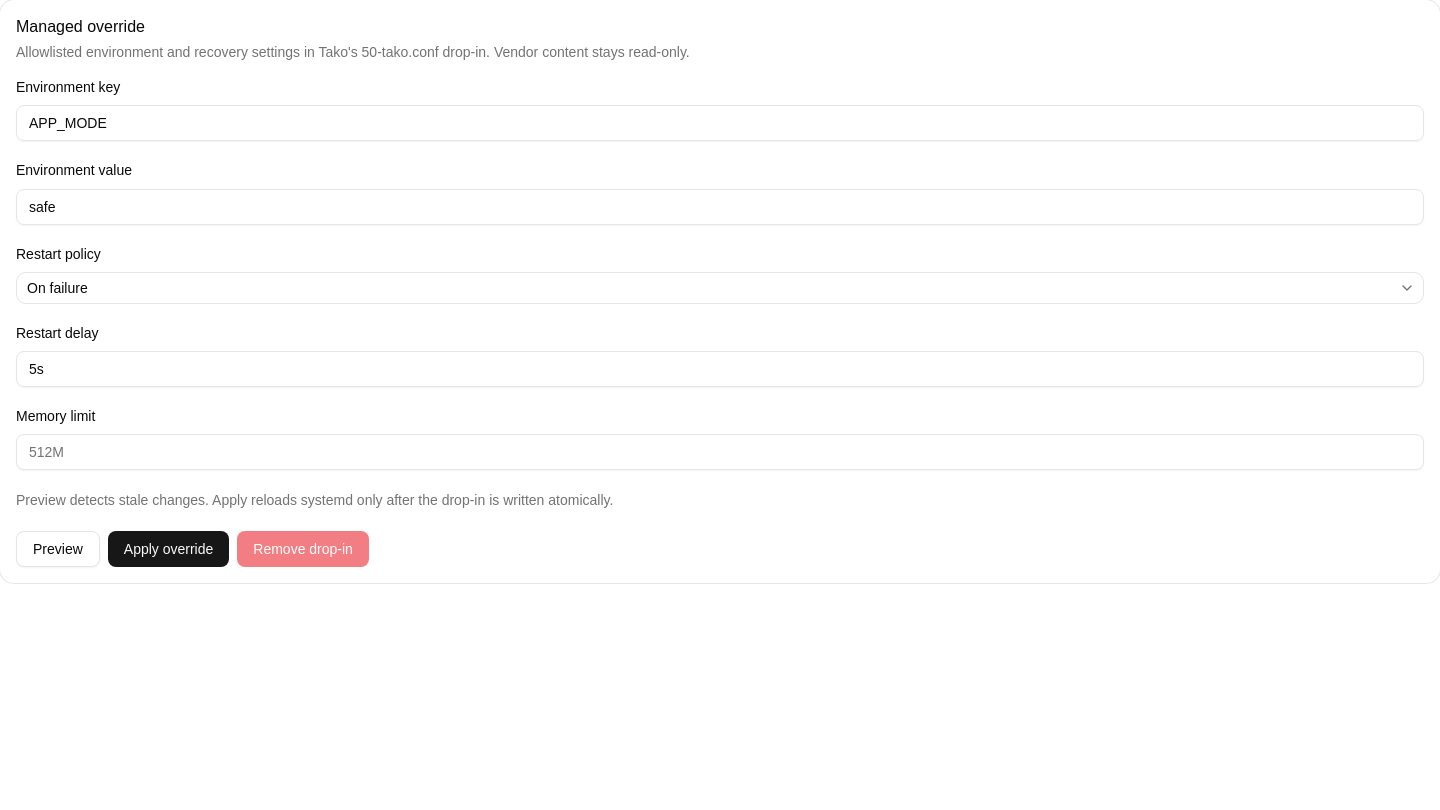
Test: ServiceOverride › previews the allowlisted drop-in and exposes recovery guidance
Click the button "Preview" at (58, 549), box [16,531,100,567]
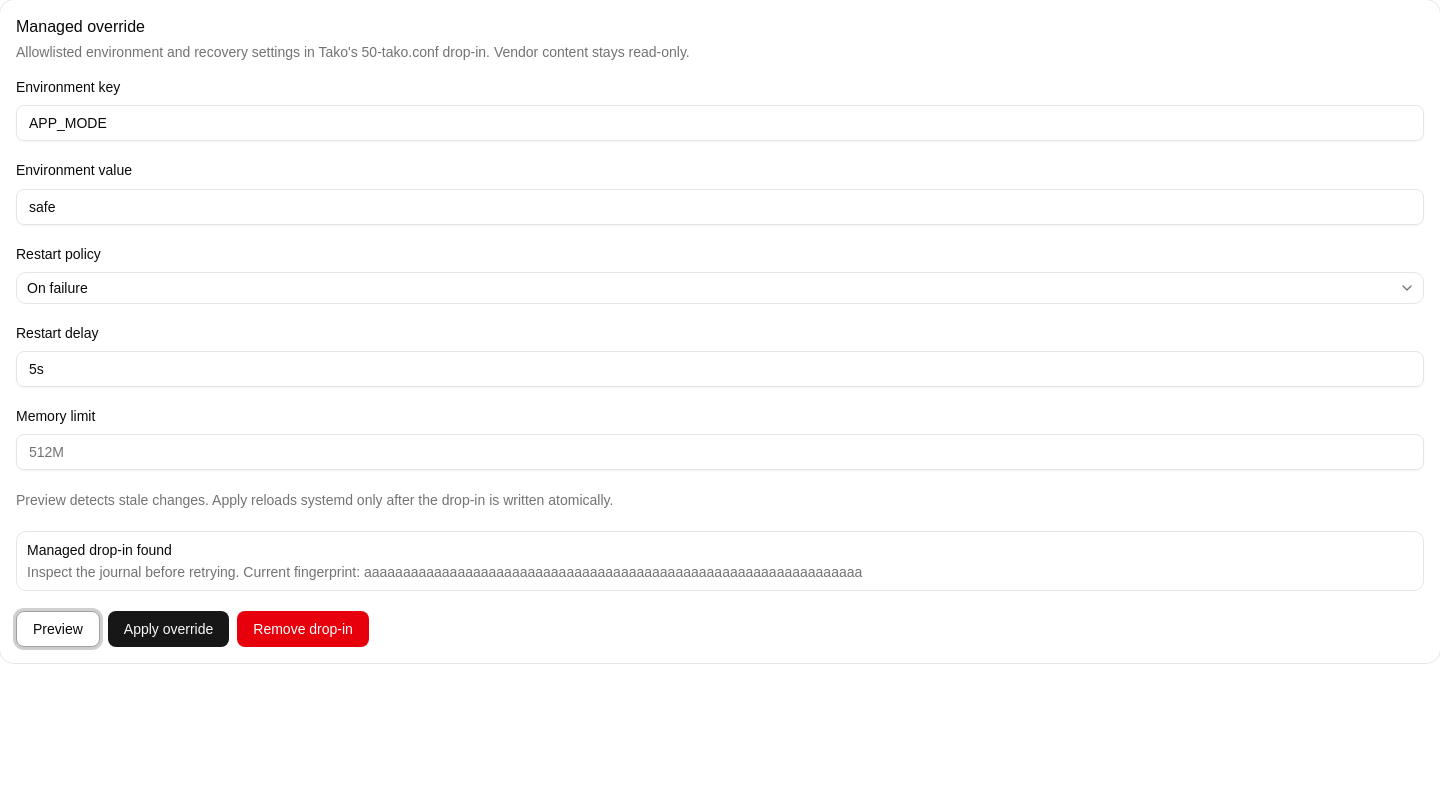
Now the text "Managed drop-in found" is shown, box [27,542,172,558]
Now the text "Inspect the journal" is shown, box [27,564,240,580]
